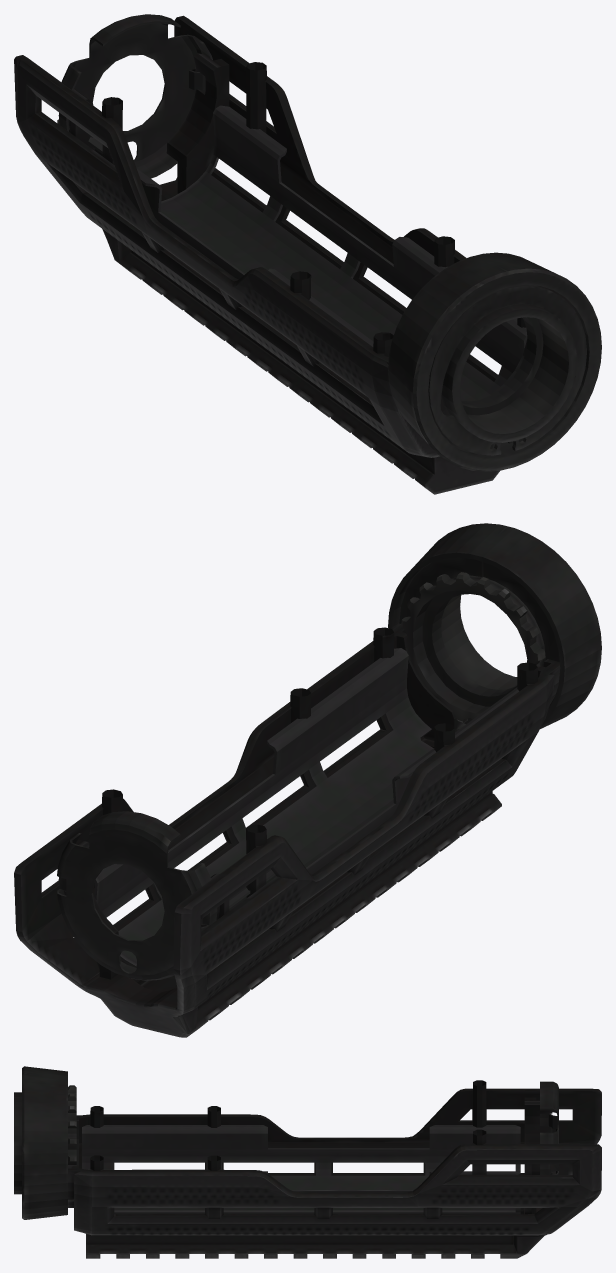
3 renders of one model, top to bottom at view 1: azimuth 30°, elevation 25°; view 2: azimuth 150°, elevation 25°; view 3: azimuth 270°, elevation 25°, orthographic. The views are drawn at different scales.
Visible parts, largest first — view 1: TW_647de824196bf69818044c93_PZ_Import; view 2: TW_647de824196bf69818044c93_PZ_Import; view 3: TW_647de824196bf69818044c93_PZ_Import.
Part boxes in pixels (x1,y1,x2,y2): TW_647de824196bf69818044c93_PZ_Import: (14, 14, 601, 494); TW_647de824196bf69818044c93_PZ_Import: (14, 523, 601, 1037); TW_647de824196bf69818044c93_PZ_Import: (14, 1066, 601, 1258).
Size of the model in its own units: 0.0301 by 0.1149 by 0.0377.
Materials: 1 (1 with a texture image).
